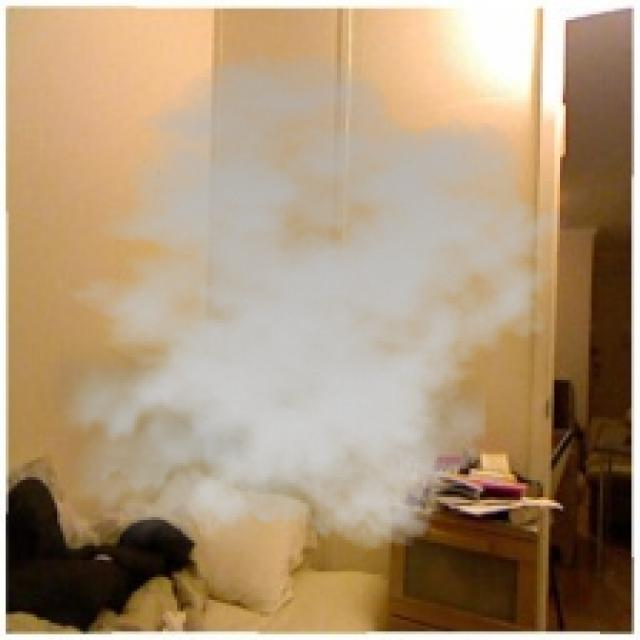smoke: (34, 51, 566, 566)
